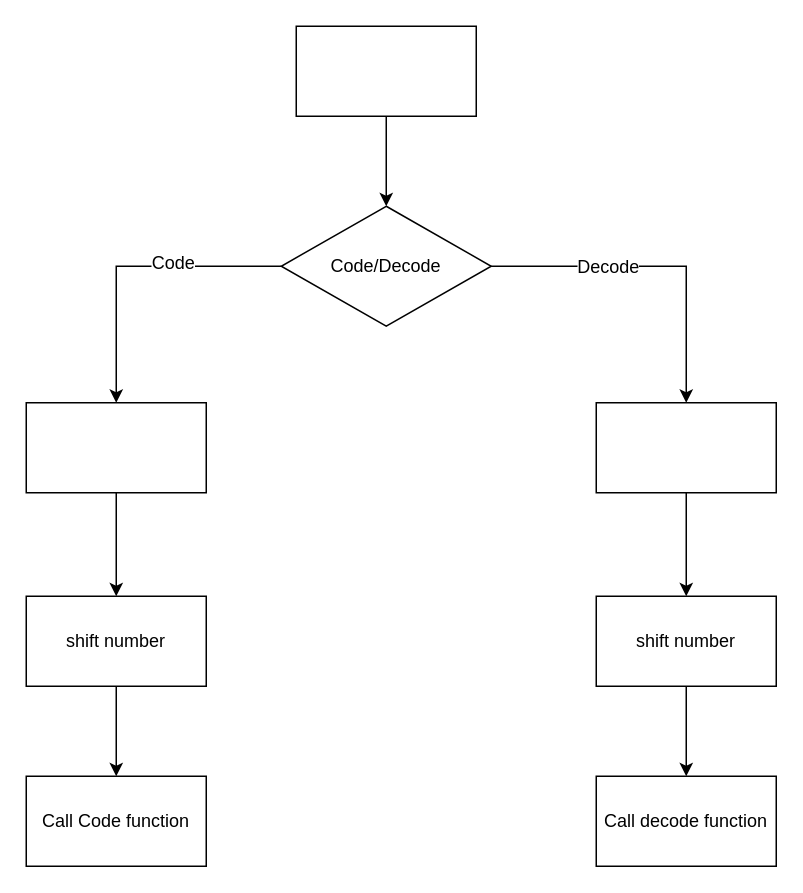
Some shapes in this 803 by 893 pixel diagram are drawn without their labels. The shapes that lost their labels are listed below. From the top down, each one's centre as x and y in pixels, then its label:
At pixel 385 70: "Welcome".
At pixel 115 447: "input origin word".
At pixel 685 447: "input word need to be decode".
